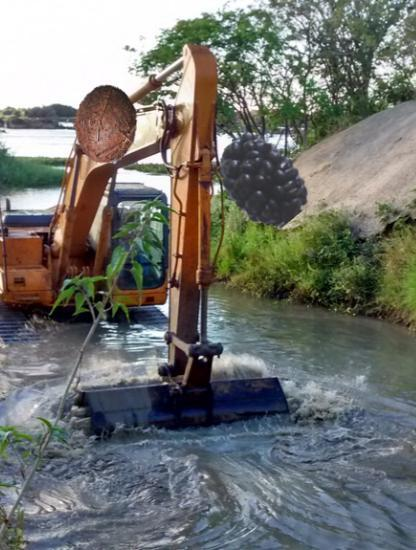Cocos: (65, 83, 146, 164)
Mulberry: (211, 130, 312, 231)
